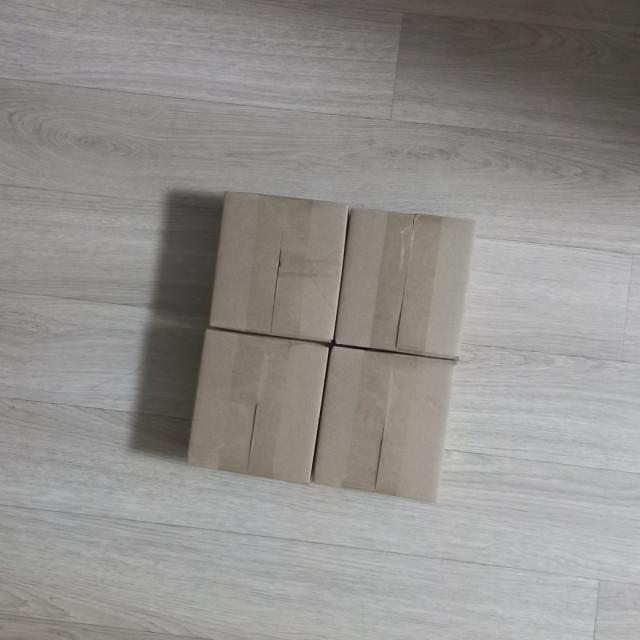box: (174, 326, 334, 490), (307, 341, 458, 509), (202, 182, 352, 348), (326, 202, 479, 362)
